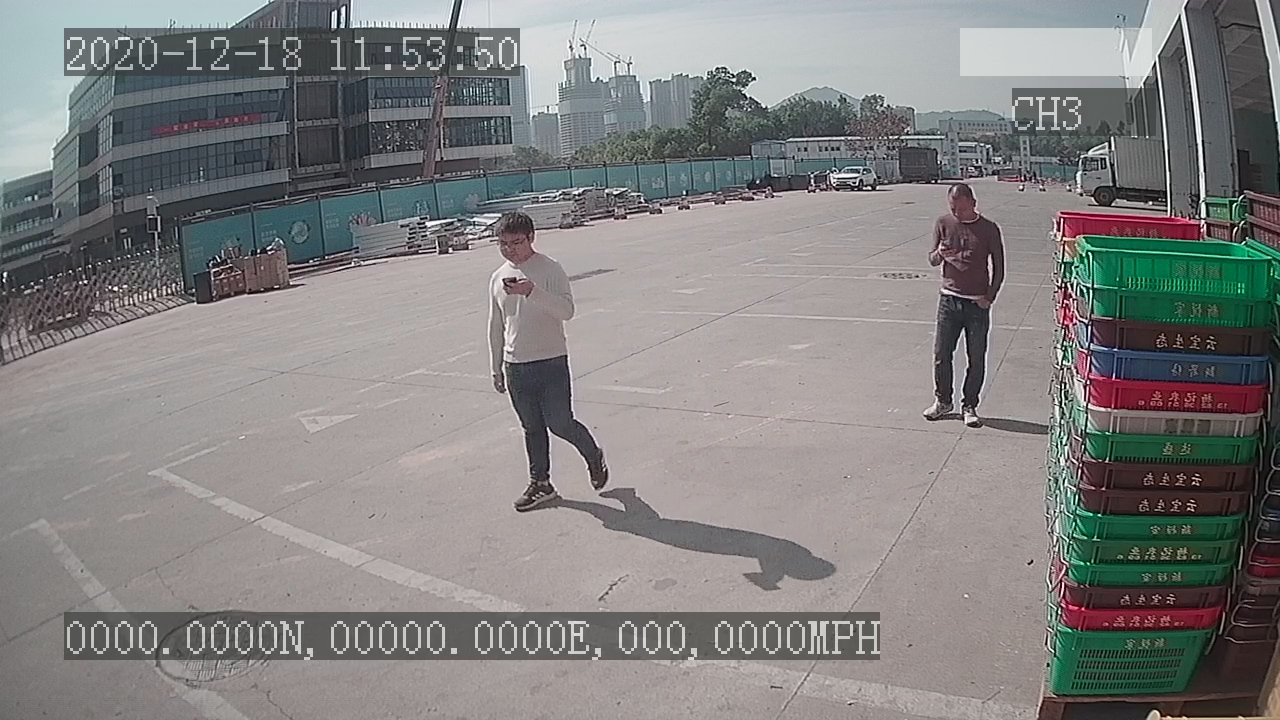person: (481, 210, 617, 511), (917, 179, 1008, 435)
